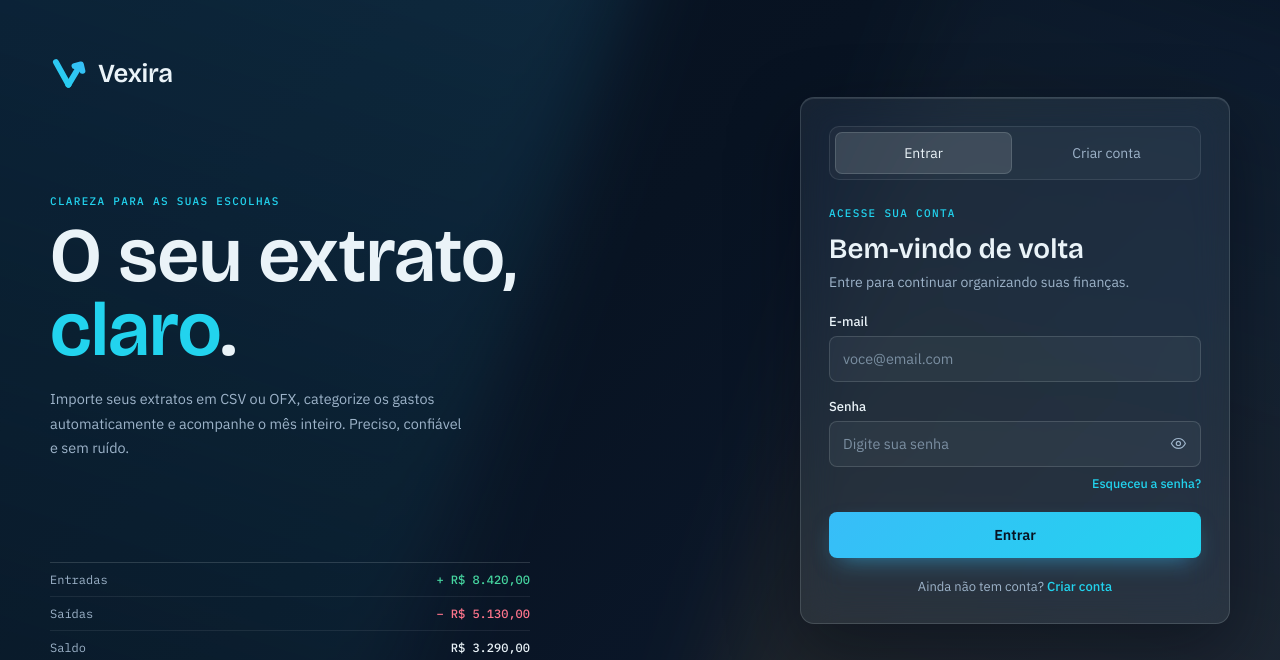
Test: AuthPage › força da senha (cadastro) › senha que contém o e-mail é fraca
Click the tab "Criar conta": click(1106, 152) 1018,132 -> 1195,174
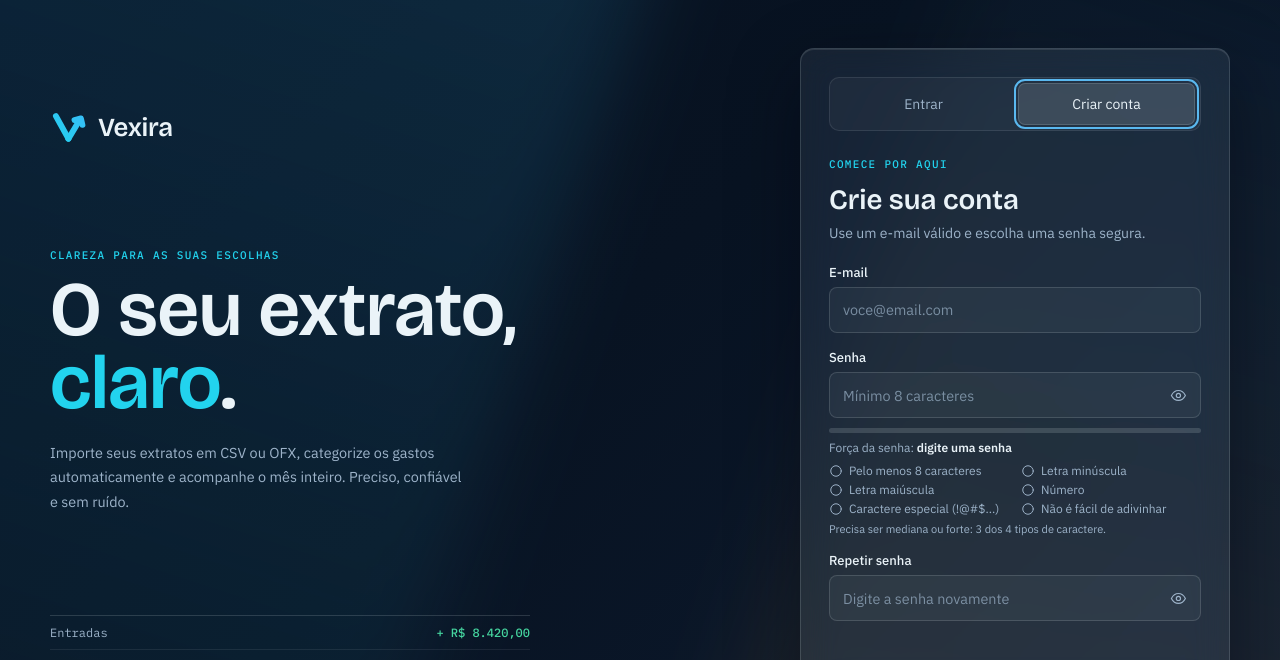
In the field labelled "E-mail": (1015, 310) 829,287 -> 1201,333, type "joao.silva@teste.com"
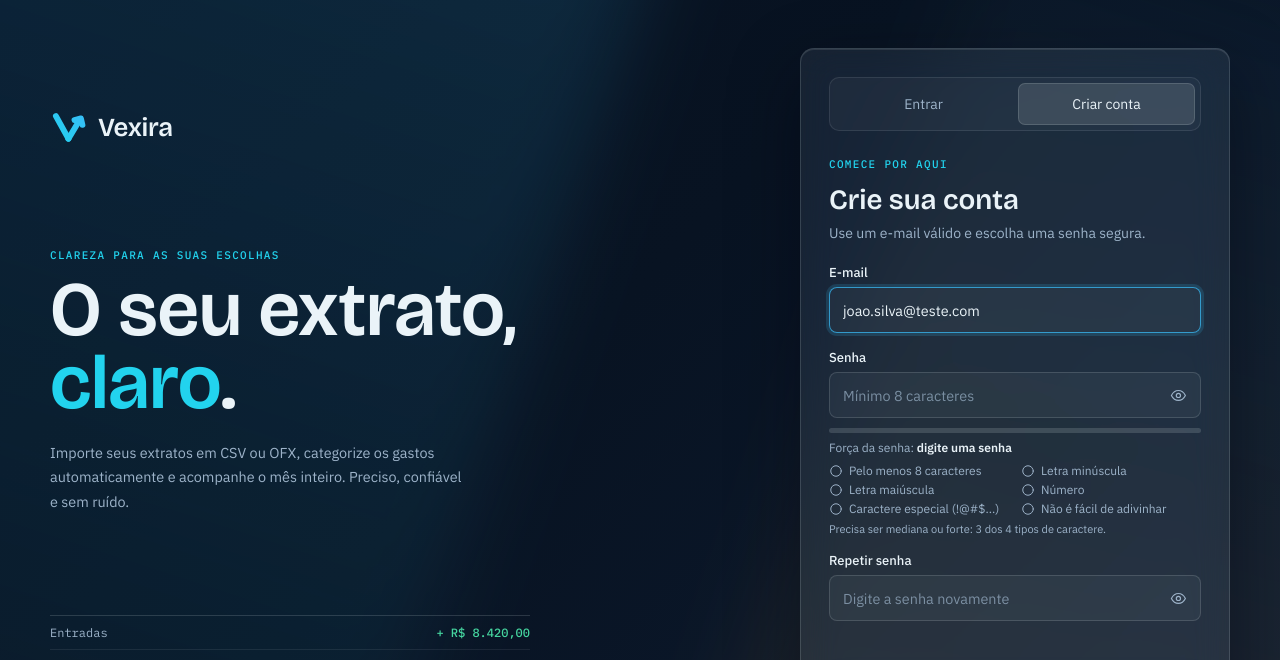
In the password field labelled "Senha": (1015, 395) 829,372 -> 1201,418, type "Joaosilva2024!"
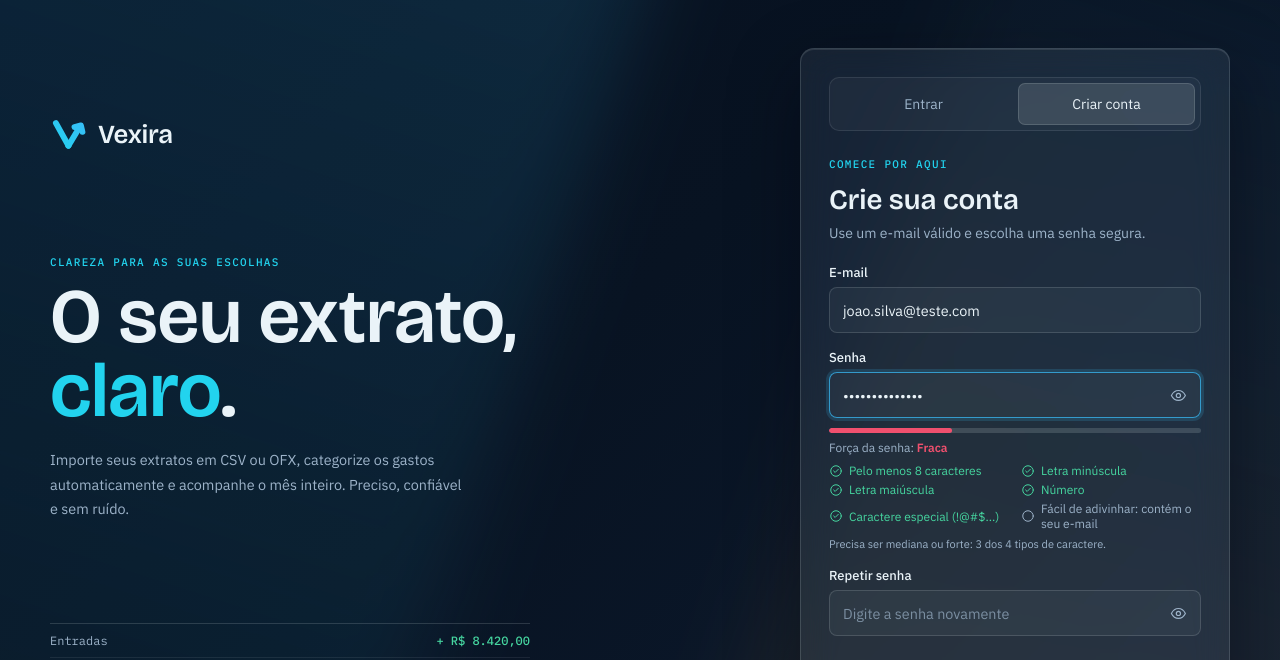
expect the list item "Fácil de adivinhar: contém o seu e-mail" is shown: met, box 1021,501 -> 1201,531
expect the element showing "Força da senha: Fraca" is shown: met, box 829,440 -> 948,455
